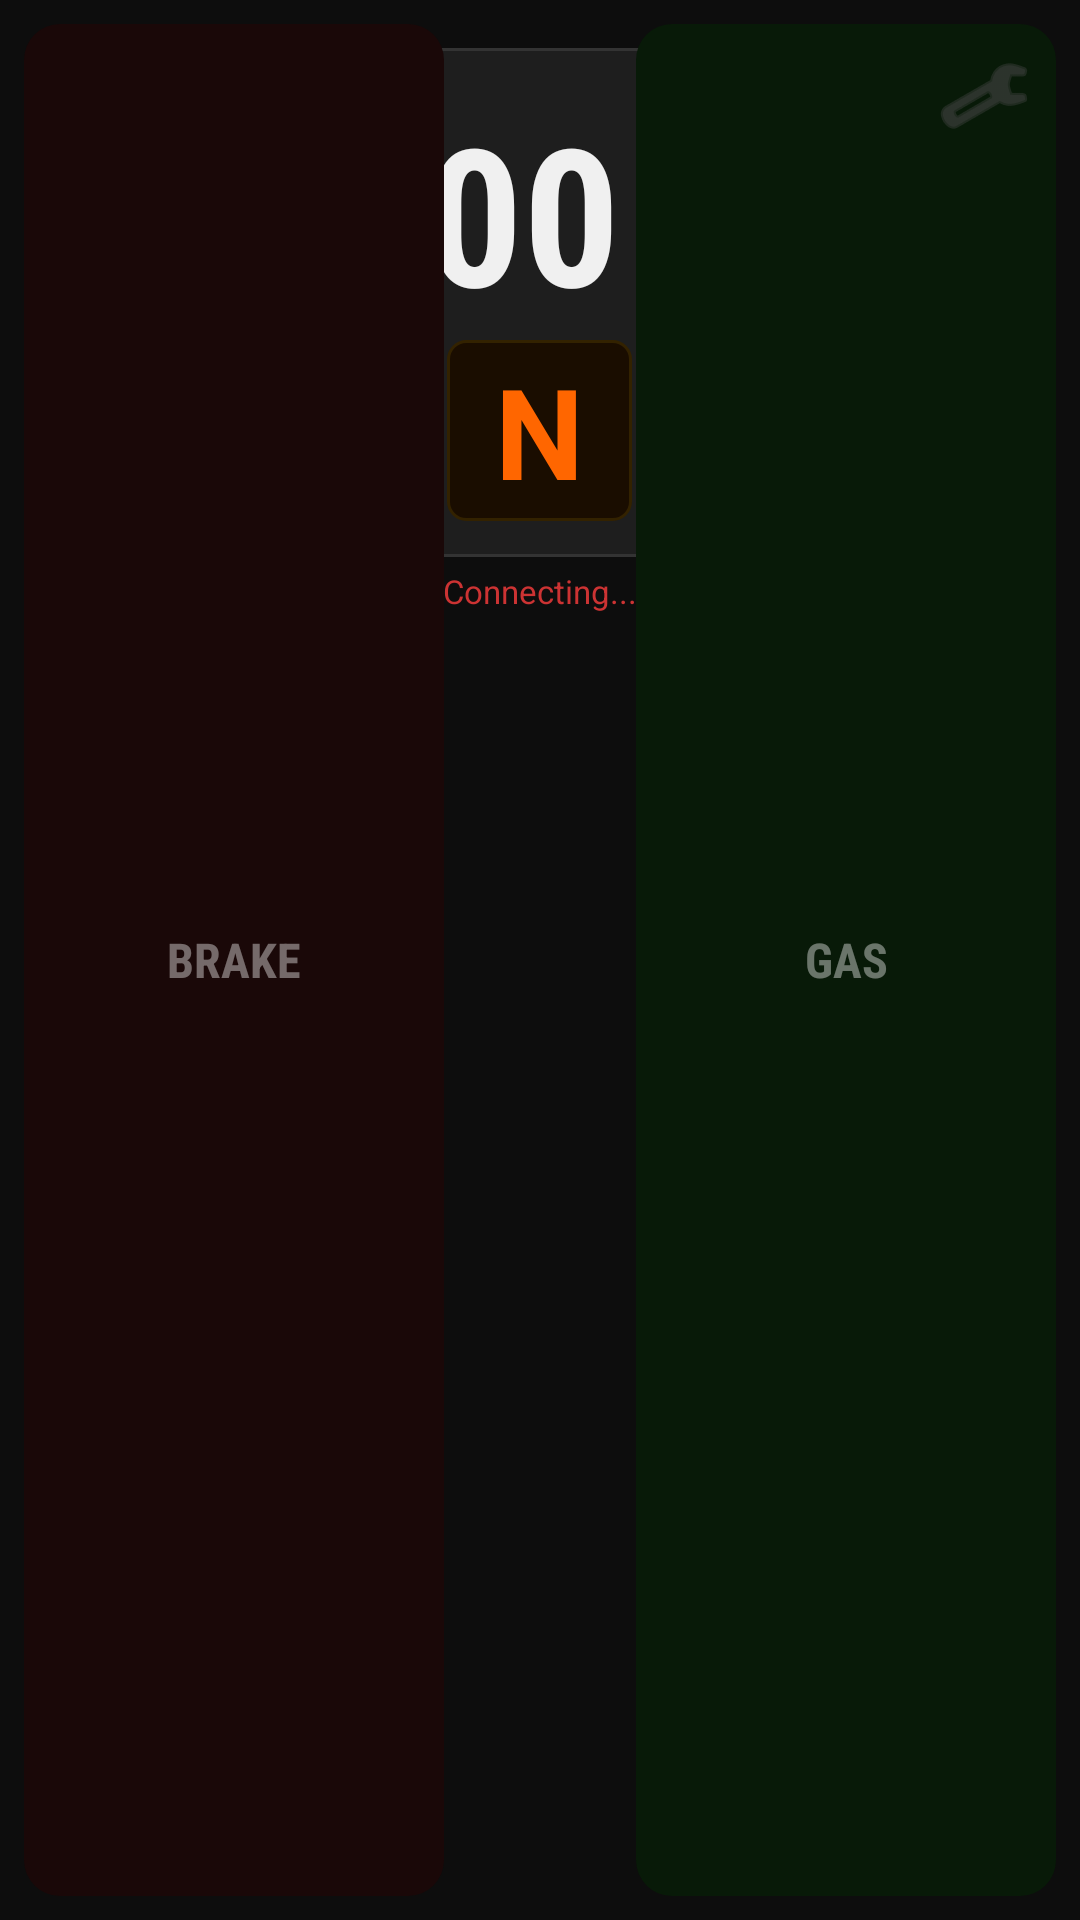

Icon bounding boxes for this 1080×1920 phone screenshot, format (x1, y1, x2, y2):
Settings: (942, 65, 1026, 127)
